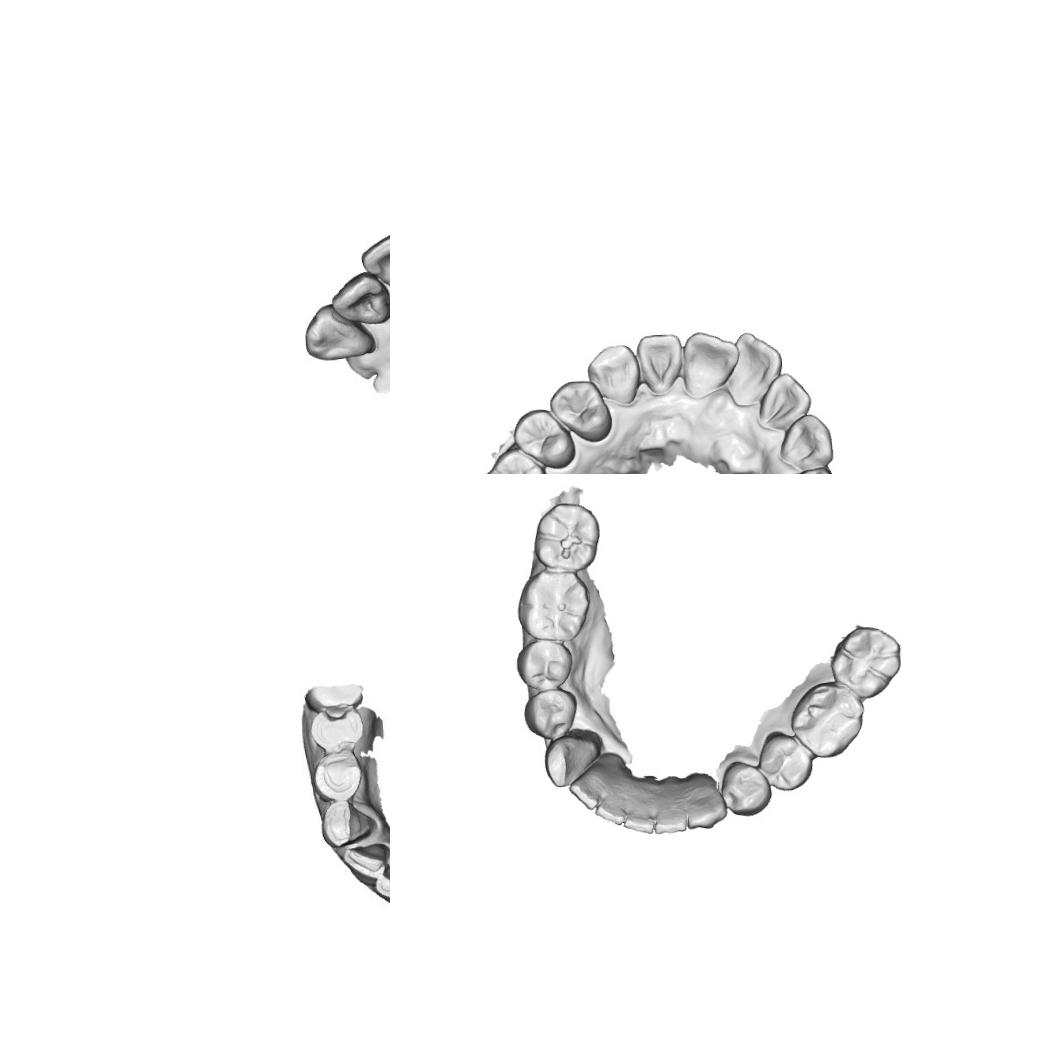canine: (300, 303, 378, 362), (585, 341, 641, 408), (775, 412, 836, 470), (542, 732, 602, 788), (316, 799, 376, 847), (685, 771, 728, 830)
incisor: (678, 330, 742, 398), (730, 328, 783, 407), (757, 370, 814, 431), (634, 330, 684, 398), (331, 271, 390, 327), (651, 776, 687, 834), (362, 227, 390, 299), (344, 841, 390, 884), (568, 767, 606, 812), (622, 798, 655, 836), (594, 792, 626, 828), (376, 861, 390, 900)
molar: (788, 680, 867, 760), (515, 567, 592, 643), (829, 624, 903, 700), (530, 500, 602, 574), (477, 445, 559, 474)
premolar: (546, 378, 613, 443), (510, 407, 576, 470), (756, 731, 816, 792), (310, 704, 374, 759), (514, 637, 574, 692), (522, 688, 580, 742), (720, 759, 772, 817), (314, 756, 368, 803)
